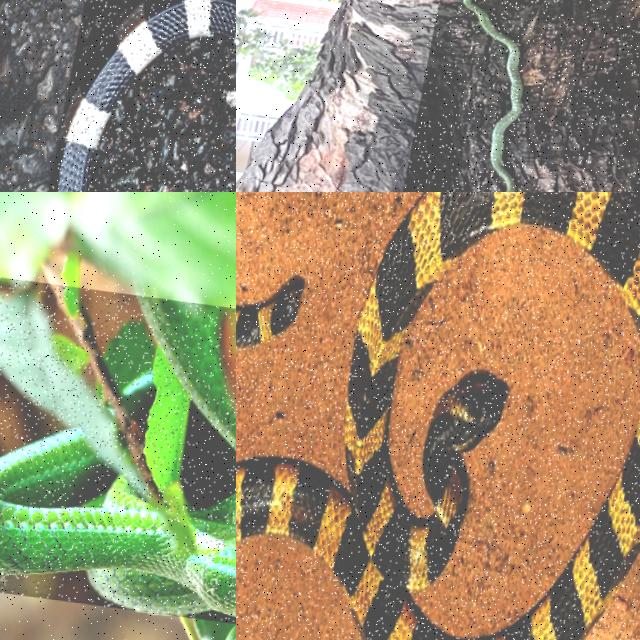Bungarus fasciatus: (236, 192, 639, 639), (51, 0, 235, 191)
Chrysopelea ornata: (463, 0, 523, 191)
Trimeresurus macrops: (0, 429, 235, 615)
snake: (236, 192, 639, 639), (0, 429, 235, 615), (51, 0, 235, 191), (463, 0, 523, 191)
